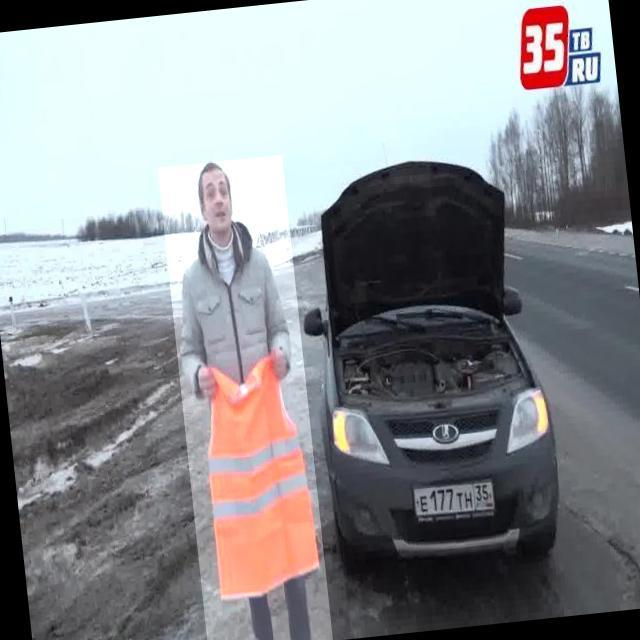Human: (157, 154, 332, 640)
Safety Vest: (193, 342, 325, 604)
